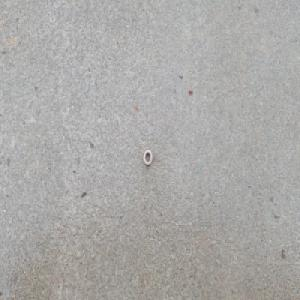Nut: (142, 148, 152, 166)
